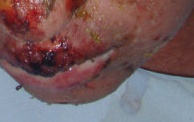SJS-TEN: (0, 0, 194, 110)
